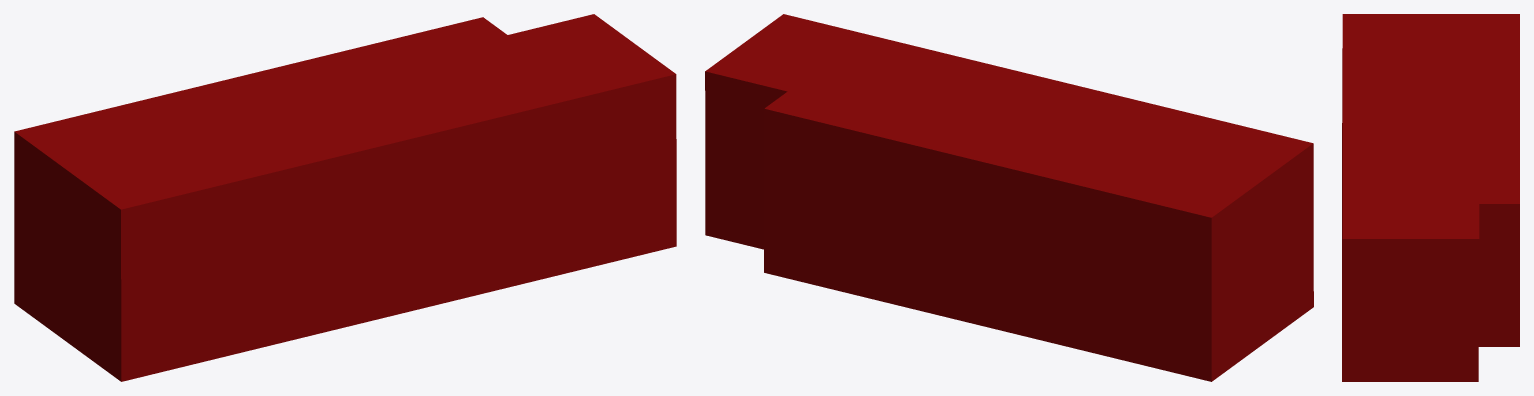
File: New Game Object (27).obj
3 renders of one model, left to right at view 1: azimuth 30°, elevation 25°; view 2: azimuth 150°, elevation 25°; view 3: azimuth 270°, elevation 25°, orthographic. The views are drawn at different scales.
Parts seen in each view (by area): view 1: New Game Object (27)_0, New Game Object (27)_1; view 2: New Game Object (27)_0, New Game Object (27)_1; view 3: New Game Object (27)_1, New Game Object (27)_0.
Part boxes in pixels (box(x1,y1,x2,y2)): New Game Object (27)_0: box(14, 74, 676, 381); New Game Object (27)_1: box(14, 14, 675, 209); New Game Object (27)_0: box(705, 71, 1313, 381); New Game Object (27)_1: box(705, 14, 1312, 217); New Game Object (27)_1: box(1342, 14, 1519, 238); New Game Object (27)_0: box(1342, 48, 1519, 381).
Size of the model in its own units: 17.33 by 5.13 by 5.79.
